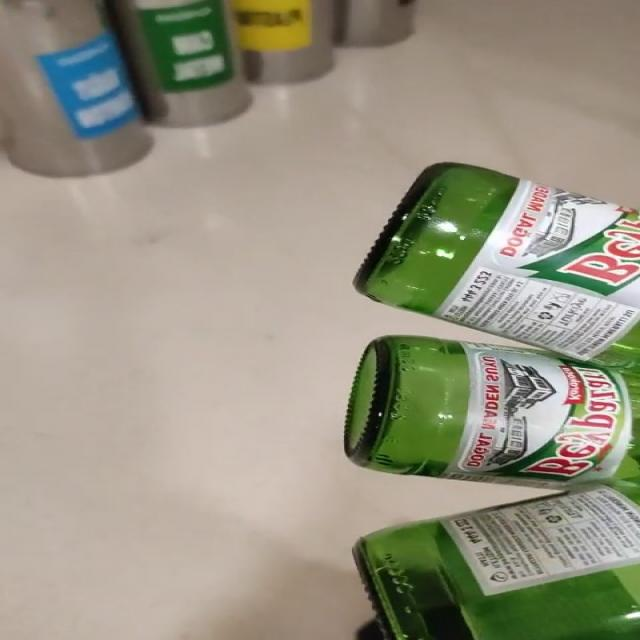glass: (345, 163, 639, 640)
